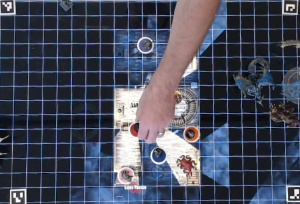blue: (149, 145, 168, 166)
orange: (182, 124, 201, 144)
pink: (116, 165, 136, 183)
red: (126, 121, 145, 138)
violet: (134, 34, 156, 55)
yellow: (170, 89, 183, 102)
